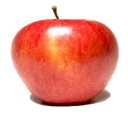apple: (10, 18, 120, 104)
